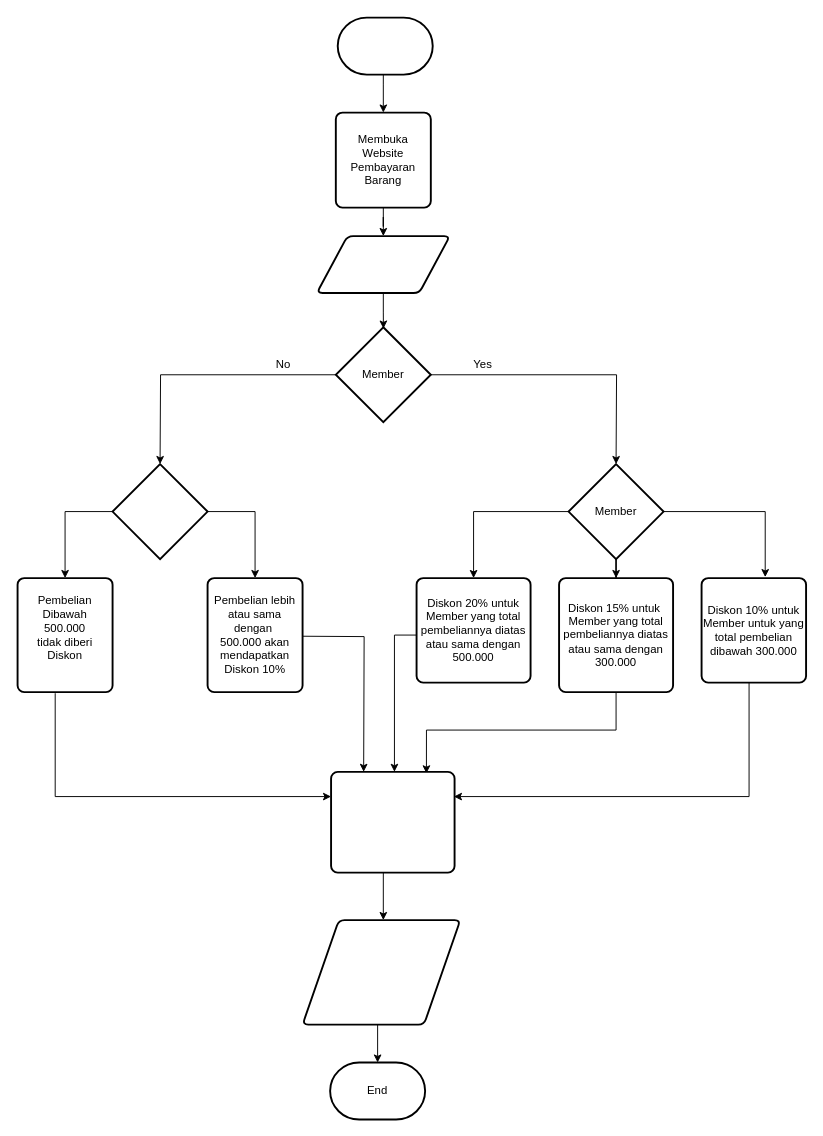
Some shapes in this 823 by 1136 pixel diagram are drawn without their labels. Each missing label, with the box of its shape:
Bukan Member: (111, 463, 208, 560)
Hitung Total setelah diskon: (330, 770, 455, 873)
Input Form Total Pembelian: (315, 235, 450, 294)
Start: (336, 16, 433, 75)
Tampilkan Hasil Status member, Total Pembelian, Diskon dan Total setelah diskon: (301, 919, 461, 1025)
